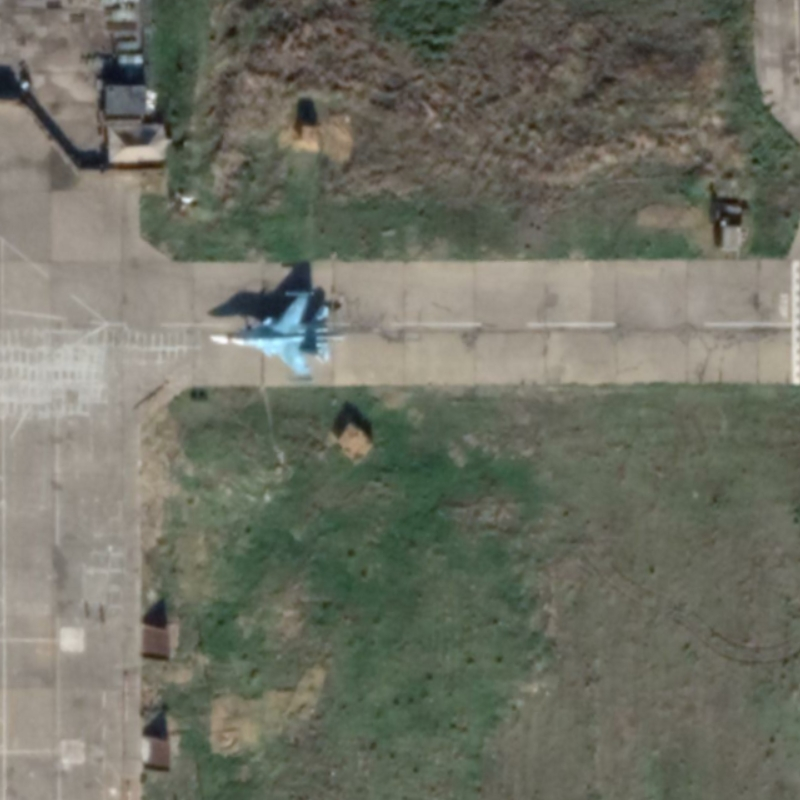A19: (205, 287, 346, 385)
